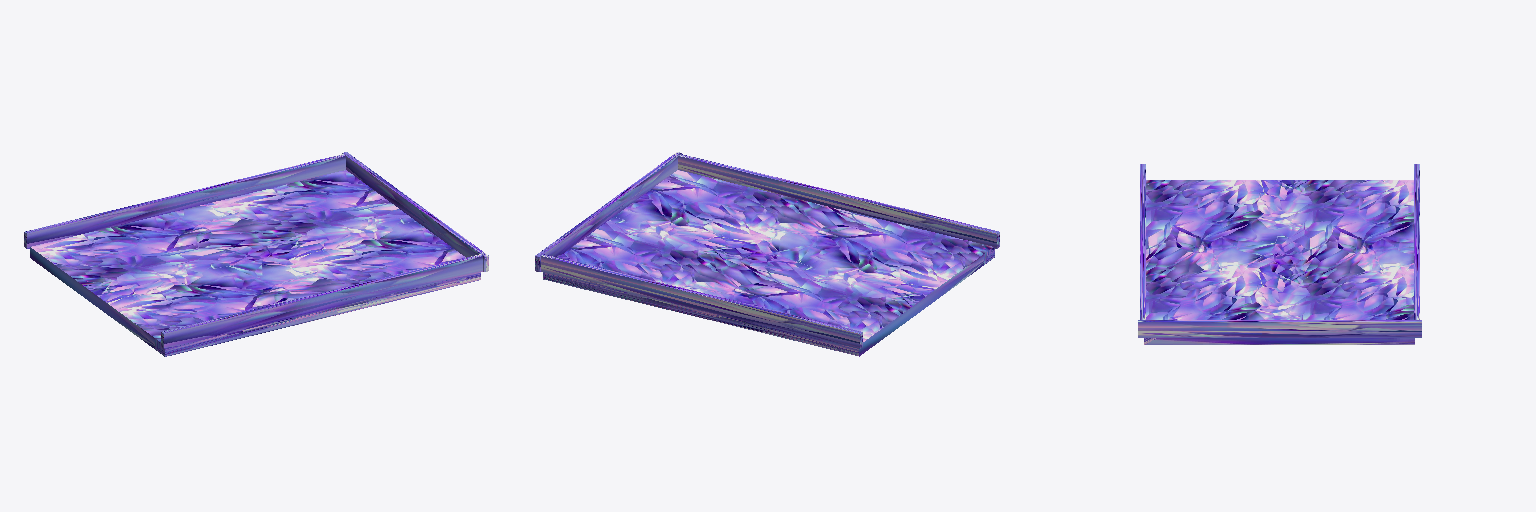
3 views of the same model, side by side, from view 1: azimuth 30°, elevation 25°; view 2: azimuth 150°, elevation 25°; view 3: azimuth 270°, elevation 25° (orthographic).
Parts seen in each view (by area): view 1: Mesa_style; view 2: Mesa_style; view 3: Mesa_style.
Boxes of the visible parts, box(x1,y1,x2,y2) form: Mesa_style: box(24, 152, 488, 356); Mesa_style: box(535, 152, 999, 356); Mesa_style: box(1138, 164, 1421, 344).
Bounding box in the file's own units: 20.2 × 1.5 × 15.38.
Materials: 1 (1 with a texture image).